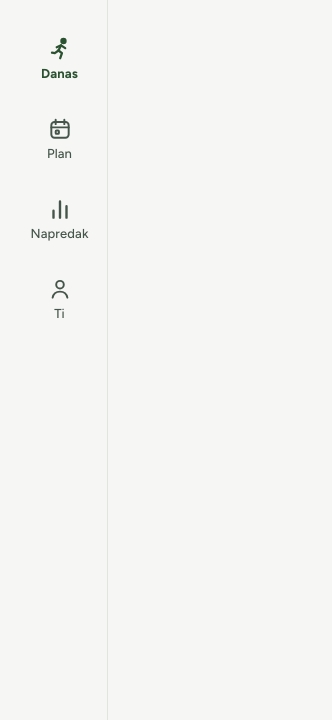
traka tabova i kapija › tab menja aktivan ekran i označava ga za čitač
The image size is (332, 720).
Click the button "Plan" at (60, 140), box [12,104,107,176]
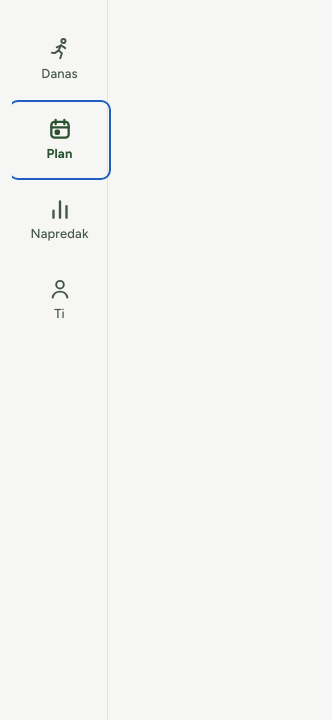
Expected: the number of buttons is 4, [12,24,107,96]; [12,104,107,176]; [12,184,107,256]; [12,264,107,336]
Expected: the button "Plan" is marked as current, [12,104,107,176]
